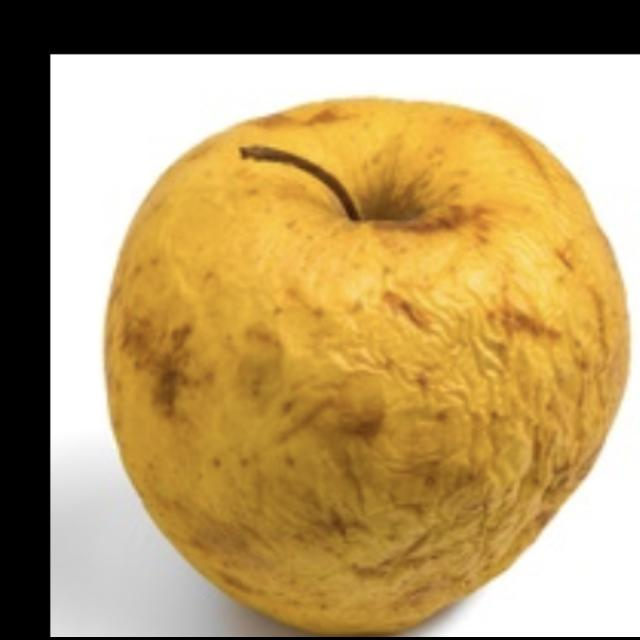Apel Tidak Segar: (107, 95, 640, 630)
